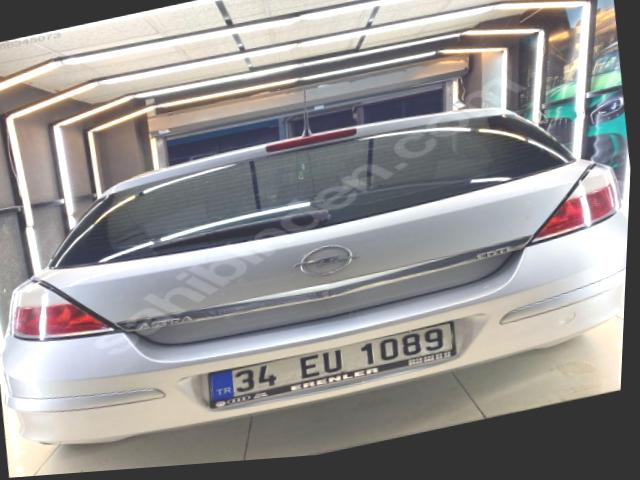plaka: (207, 321, 455, 408)
